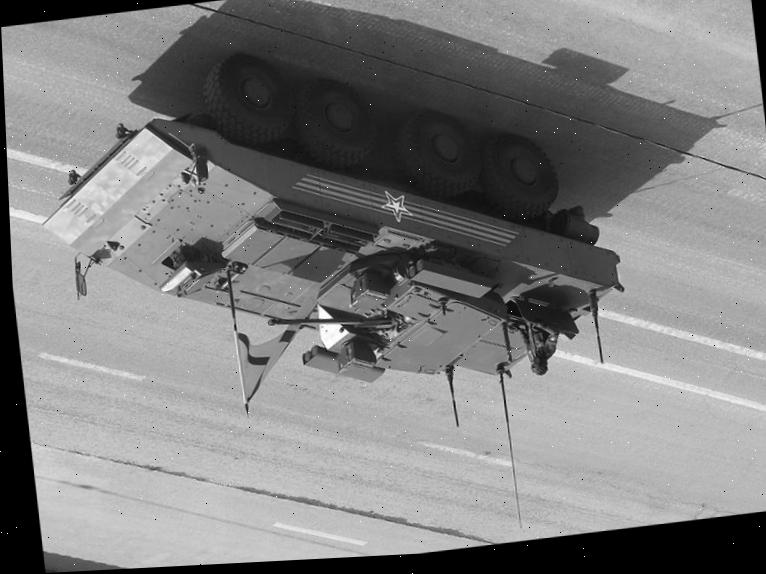truck: (12, 0, 636, 456)
